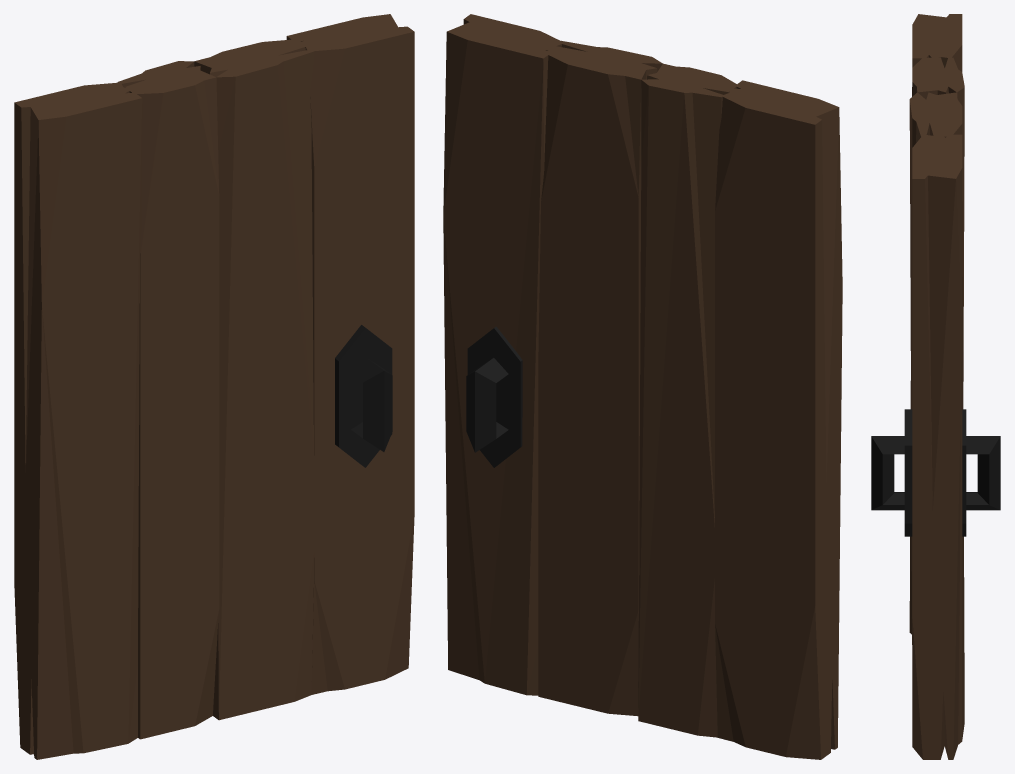
File: Door_Small.fbx
3 renders of one model, left to right at view 1: azimuth 30°, elevation 25°; view 2: azimuth 150°, elevation 25°; view 3: azimuth 270°, elevation 25°, orthographic. The views are drawn at different scales.
Visible parts, largest first — view 1: Door_Small; view 2: Door_Small; view 3: Door_Small.
Boxes of the visible parts, bbox=[...] form: Door_Small: bbox=[14, 14, 414, 759]; Door_Small: bbox=[443, 14, 842, 759]; Door_Small: bbox=[871, 14, 1000, 759].
Bounding box in the file's own units: 299 × 491 × 99.
